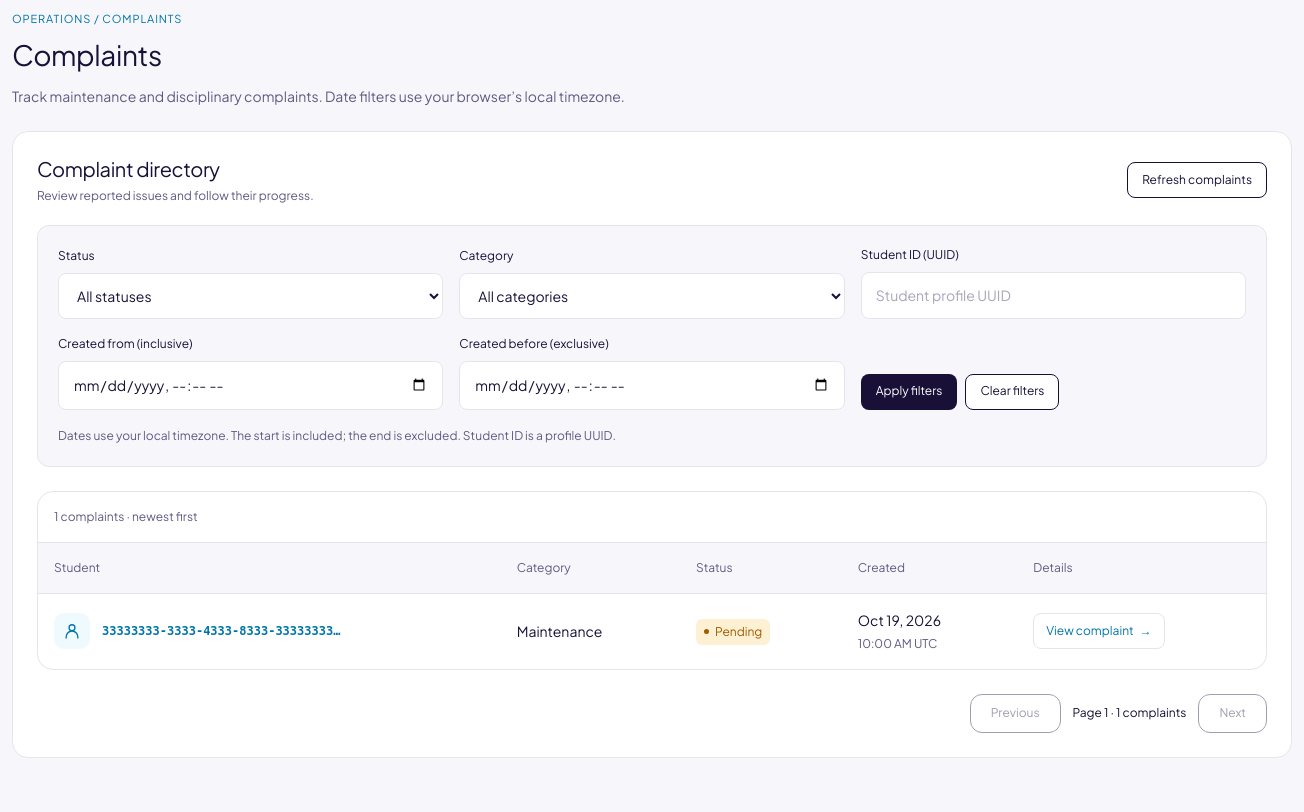
Test: filters by status/category/student/time and preserves filters on details/back navigation
Expected: the table is shown, left=38, top=492, right=1266, bottom=669
Select "Pending" in the dropdown labelled "Status" at (251, 296), box left=58, top=273, right=443, bottom=319
Select "Maintenance" in the dropdown labelled "Category" at (652, 296), box left=459, top=273, right=845, bottom=319
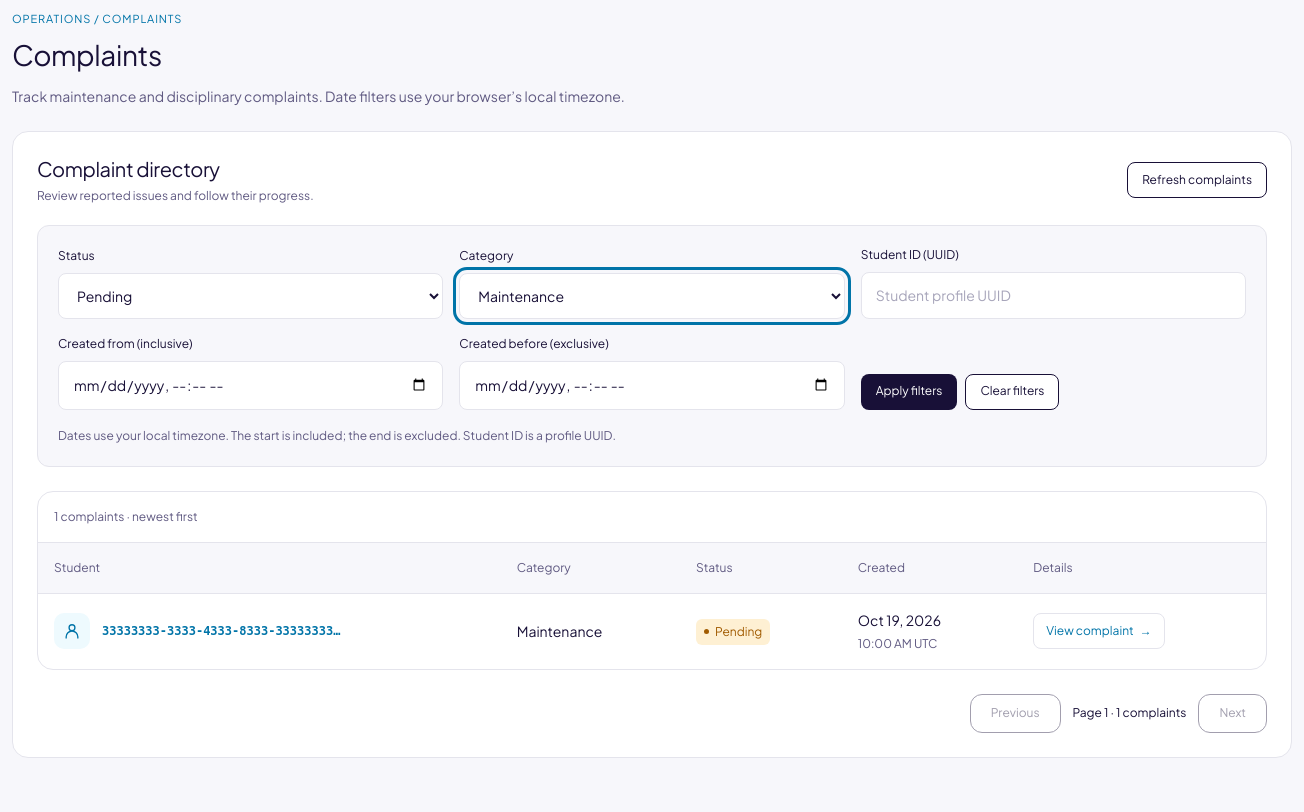
Type "33333333-3333-4333-8333-333333333333" into the field labelled "Student ID (UUID)" at (1053, 295), box left=861, top=272, right=1246, bottom=319
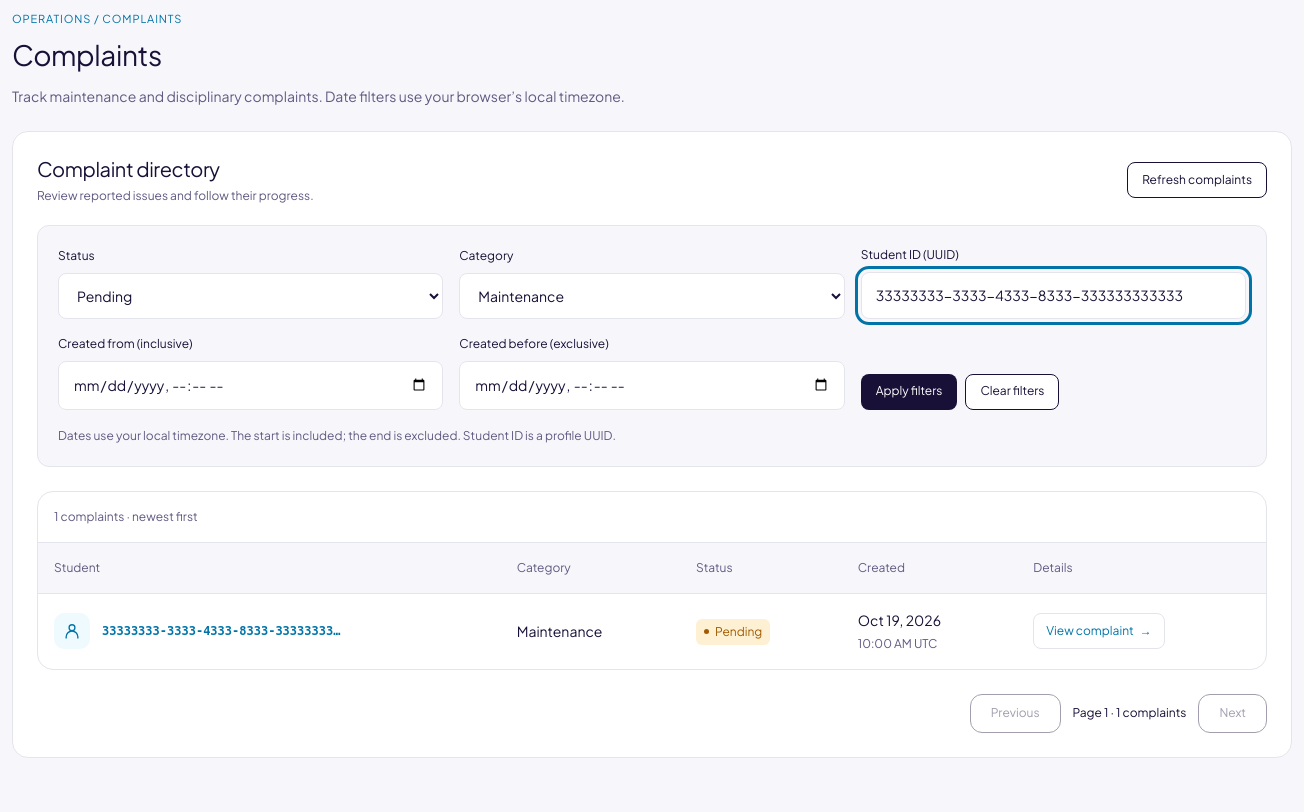
Type "2026-10-19T00:00" into the field labelled "Created from (inclusive)" at (251, 385), box left=58, top=361, right=443, bottom=410
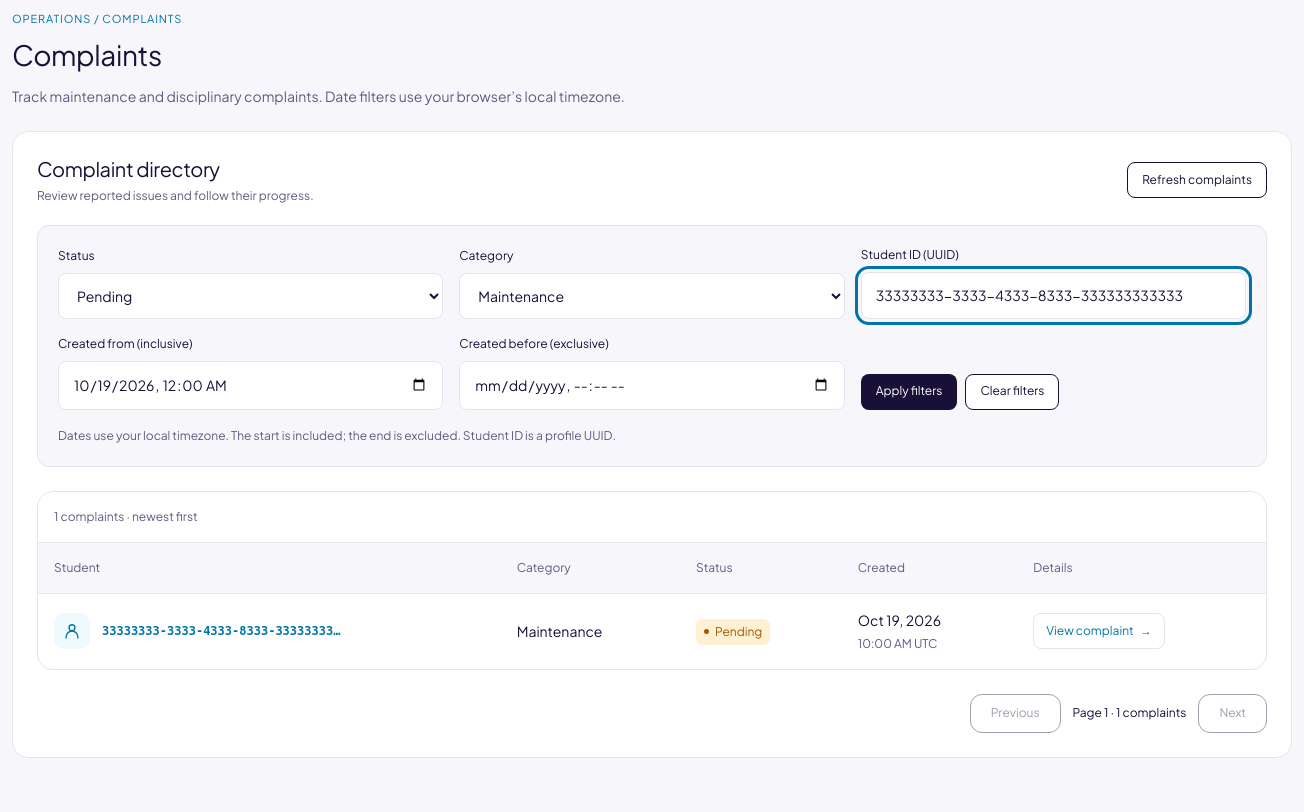
Type "2026-10-20T00:00" into the field labelled "Created before (exclusive)" at (652, 385), box left=459, top=361, right=845, bottom=410
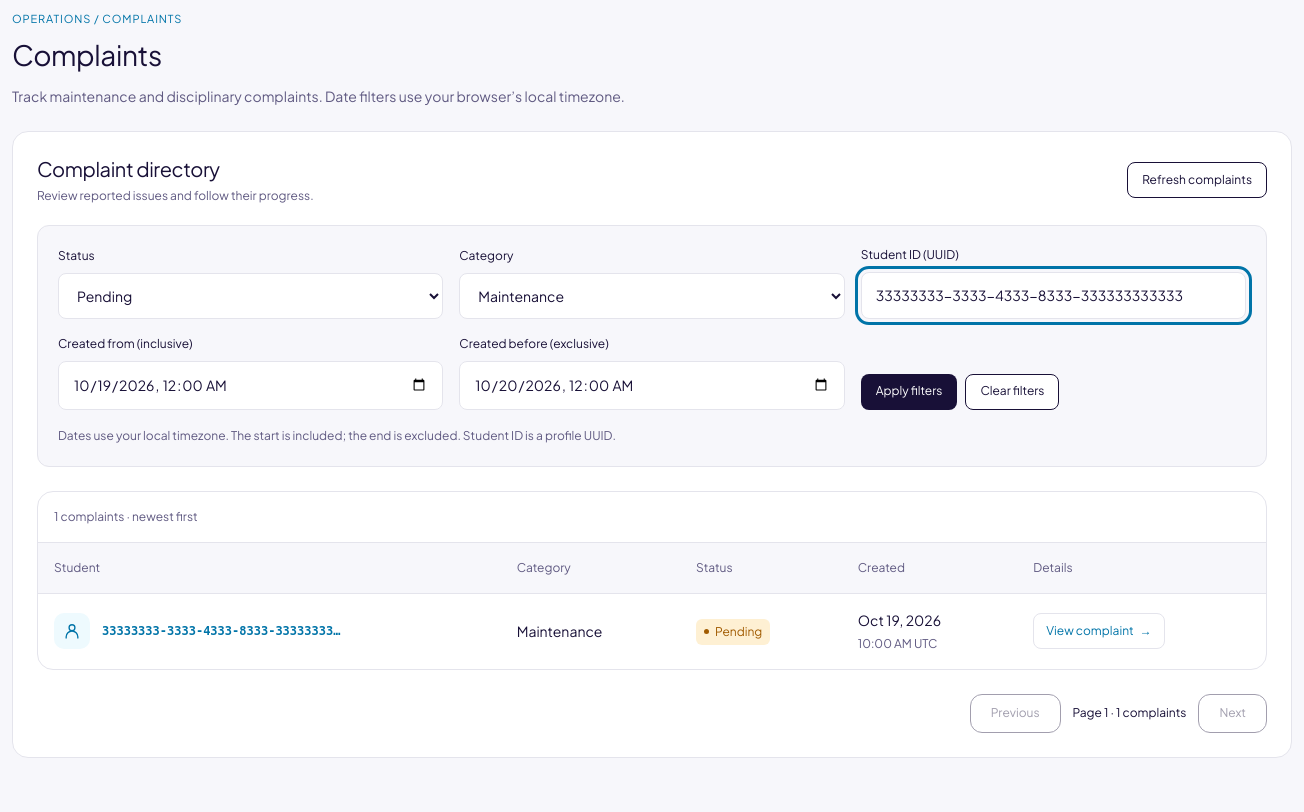
Click the button "Apply filters" at (909, 392), box left=861, top=374, right=958, bottom=410
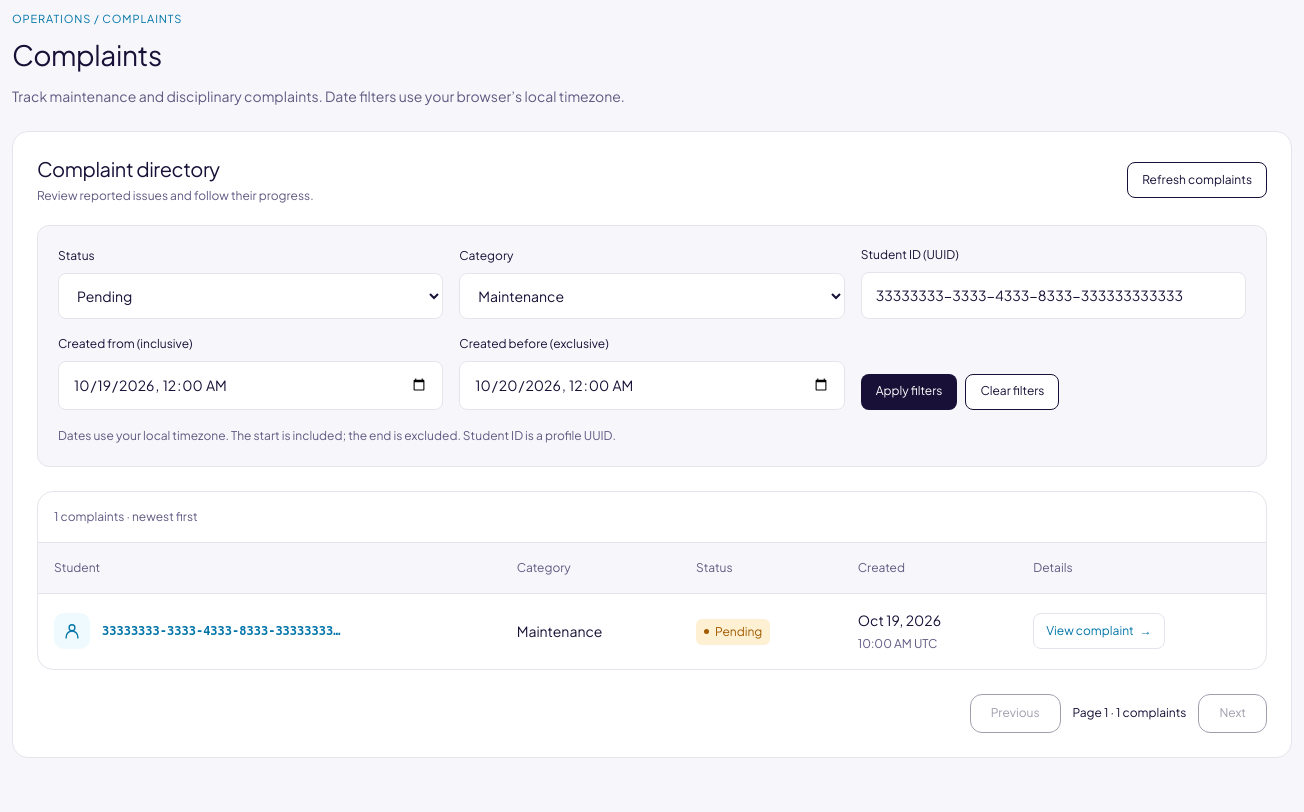
Click the link "View complaint →" at (1099, 632), box left=1033, top=614, right=1165, bottom=650
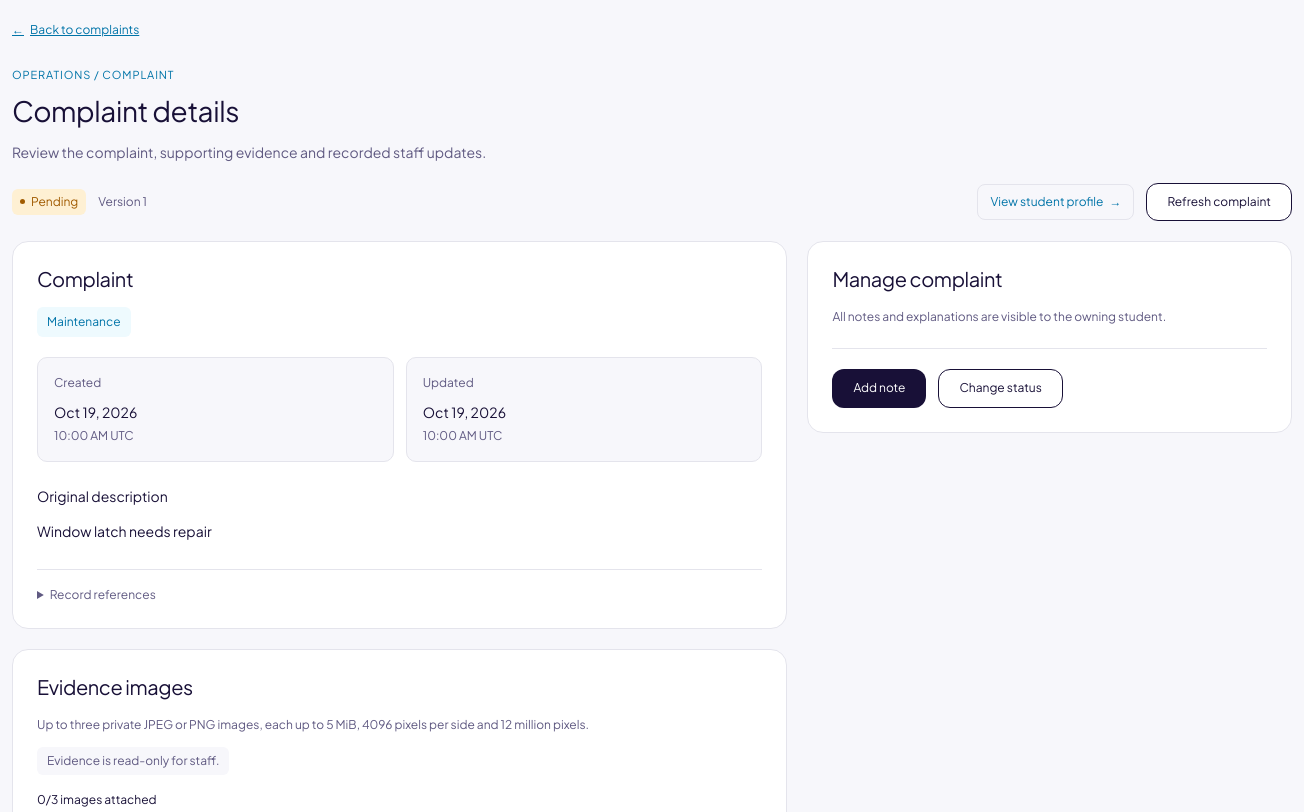
Result: the heading "Manage complaint" is shown at left=832, top=266, right=1002, bottom=291
